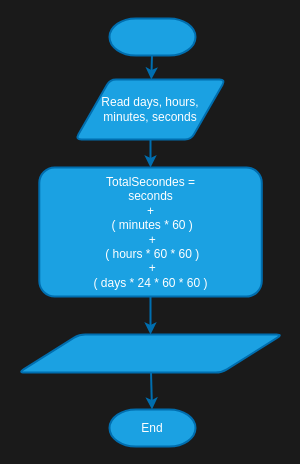
This 300x464 diagram has some shape labels left out. The centre of each missing label's shape, as x and y in pixels:
Print TotalSeconds + " soconds": point 150,353
start: point 152,36
